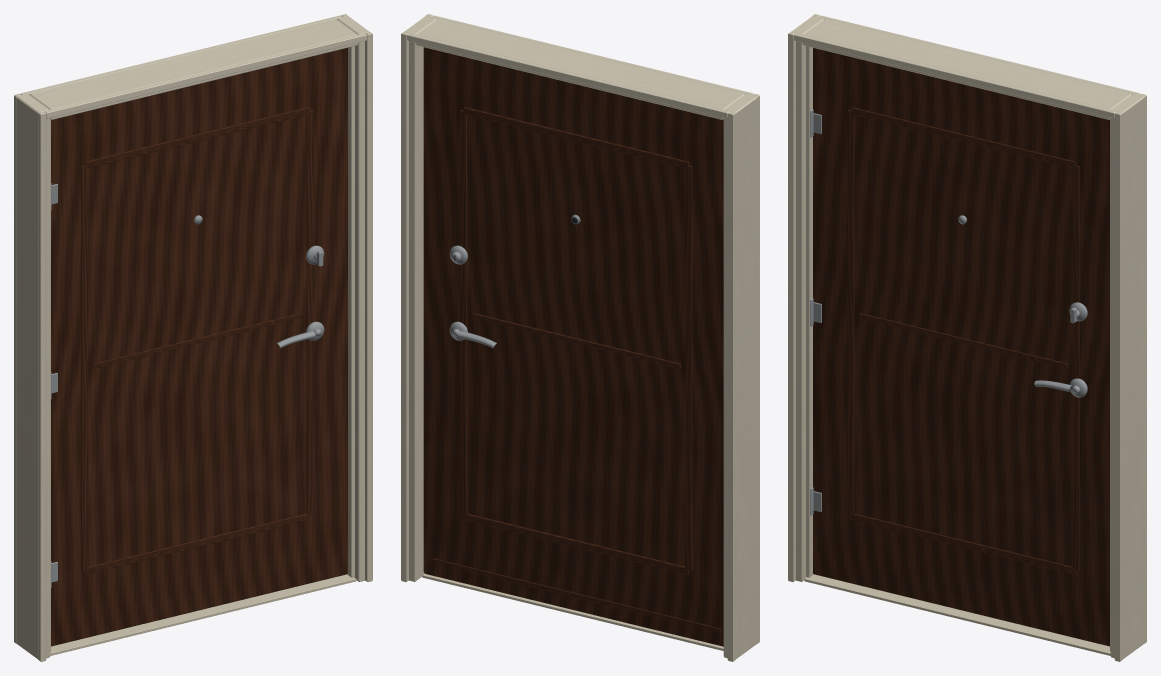
Rendered from Apartment_Entry_Door.glb.
3 views of the same model, side by side, from view 1: azimuth 30°, elevation 25°; view 2: azimuth 150°, elevation 25°; view 3: azimuth 330°, elevation 25° (orthographic).
Visible parts, largest first — view 1: DoorLeaf, DoorFrame; view 2: DoorLeaf, DoorFrame; view 3: DoorLeaf, DoorFrame, Handle_Inside.
Part boxes in pixels (box(x1,y1,x2,y2)): DoorLeaf: box(51, 48, 347, 646); DoorFrame: box(14, 14, 372, 661); DoorLeaf: box(423, 47, 723, 646); DoorFrame: box(401, 14, 759, 661); DoorLeaf: box(810, 48, 1109, 646); DoorFrame: box(788, 14, 1146, 661); Handle_Inside: box(1034, 378, 1087, 397).
Size of the model in its own units: 1.37 by 2.16 by 0.192.
Materials: 3 (3 with a texture image).
